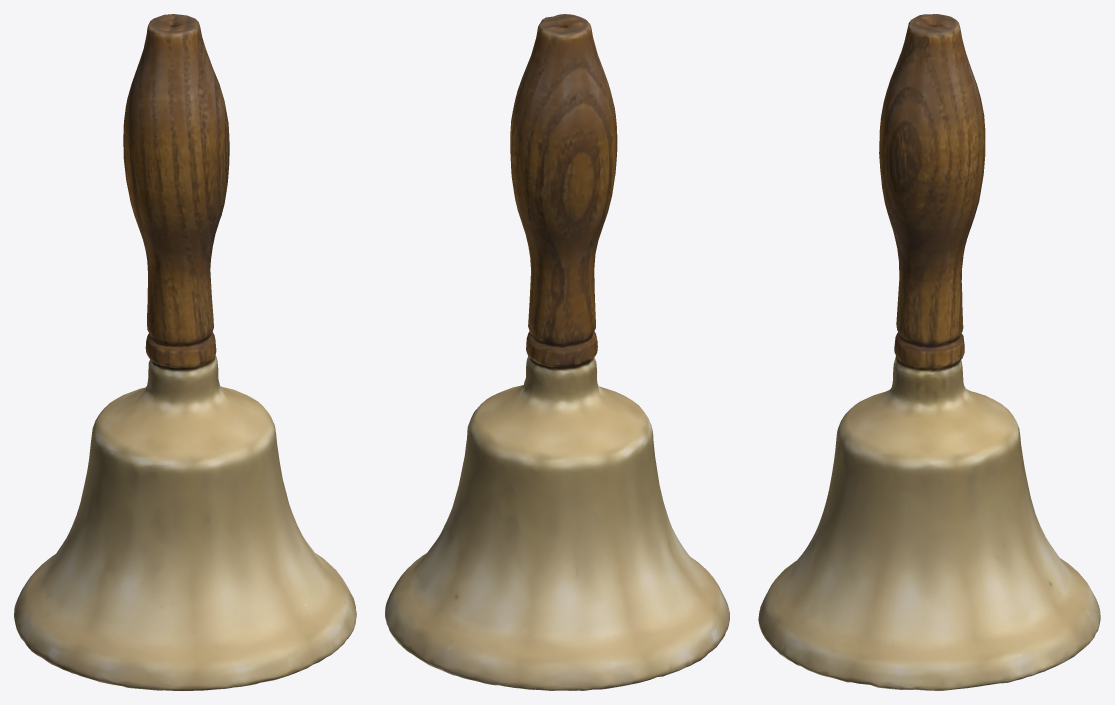
Rendered from Cole_Hardware_School_Bell_Solid_Brass_38.glb.
3 views of the same model, side by side, from view 1: azimuth 30°, elevation 25°; view 2: azimuth 150°, elevation 25°; view 3: azimuth 270°, elevation 25° (orthographic).
Visible parts, largest first — view 1: Cole_Hardware_School_Bell_Solid_Brass_38; view 2: Cole_Hardware_School_Bell_Solid_Brass_38; view 3: Cole_Hardware_School_Bell_Solid_Brass_38.
Boxes of the visible parts, x1=… form: Cole_Hardware_School_Bell_Solid_Brass_38: x1=14, y1=14, x2=356, y2=690; Cole_Hardware_School_Bell_Solid_Brass_38: x1=385, y1=14, x2=729, y2=690; Cole_Hardware_School_Bell_Solid_Brass_38: x1=758, y1=14, x2=1100, y2=690.
Bounding box in the file's own units: 0.083 × 0.1596 × 0.083.
1 material, 1 textured.
